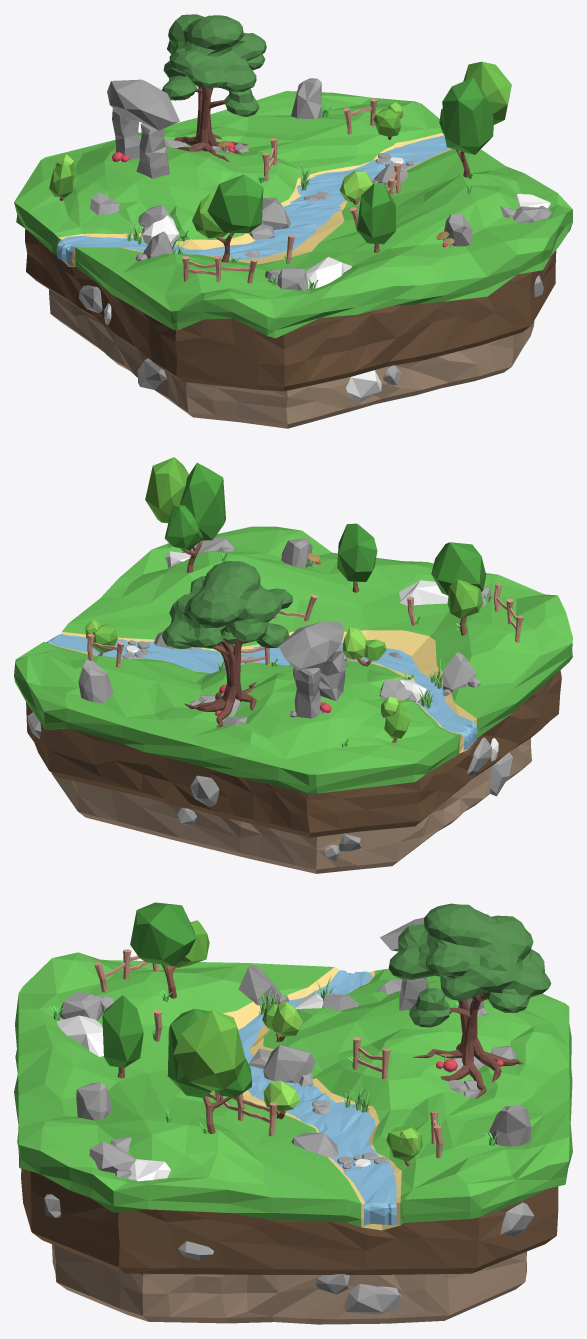
The model's file is island.glb.
3 renders of one model, top to bottom at view 1: azimuth 30°, elevation 25°; view 2: azimuth 150°, elevation 25°; view 3: azimuth 270°, elevation 25°, orthographic. The views are drawn at different scales.
Parts seen in each view (by area): view 1: Plane.001, Cube.002, Cube.003, Mball.016, Plane.003, Cube, Cube.030, Cube.035, Icosphere.019, Icosphere.012, Cube.041, Icosphere.008 (+9 smaller); view 2: Plane.001, Cube.002, Cube.003, Mball.016, Cube.030, Plane.003, Cube, Cube.035, Icosphere.019, Icosphere.012, Cube.031, Cube.041 (+7 smaller); view 3: Plane.001, Cube.002, Cube.003, Mball.016, Plane.003, Cube.030, Cube.035, Icosphere.019, Cube.008, Icosphere.012, Icosphere.000, Cube (+15 smaller).
Boxes of the visible parts, box(x1,y1,x2,y2) form: Plane.001: box(14, 91, 572, 338); Cube.002: box(25, 229, 556, 391); Cube.003: box(49, 289, 534, 428); Mball.016: box(162, 14, 266, 161); Plane.003: box(56, 135, 450, 265); Cube: box(107, 79, 179, 178); Cube.030: box(439, 61, 511, 177); Cube.035: box(192, 174, 263, 262); Icosphere.019: box(356, 183, 395, 252); Icosphere.012: box(291, 78, 321, 118); Cube.041: box(49, 154, 73, 200); Icosphere.008: box(306, 257, 351, 288); Plane.001: box(14, 526, 572, 793); Cube.002: box(26, 670, 561, 837); Cube.003: box(51, 738, 531, 873); Mball.016: box(162, 561, 292, 727); Cube.030: box(145, 457, 225, 572); Plane.003: box(46, 634, 477, 750); Cube: box(278, 621, 345, 718); Cube.035: box(431, 542, 486, 635); Icosphere.019: box(337, 523, 377, 592); Icosphere.012: box(78, 659, 113, 702); Cube.031: box(342, 627, 386, 666); Cube.041: box(381, 696, 409, 742); Plane.001: box(14, 952, 572, 1230); Cube.002: box(21, 1168, 558, 1274); Cube.003: box(52, 1244, 526, 1324); Mball.016: box(388, 903, 551, 1098); Plane.003: box(238, 970, 396, 1225); Cube.030: box(167, 1008, 251, 1133); Cube.035: box(130, 902, 209, 998); Icosphere.019: box(102, 995, 143, 1078); Cube.008: box(263, 1045, 315, 1083); Icosphere.012: box(488, 1105, 531, 1146); Icosphere.000: box(344, 1284, 402, 1314); Cube: box(380, 914, 489, 1010).
Size of the model in its own units: 16.38 by 9.97 by 16.24.
